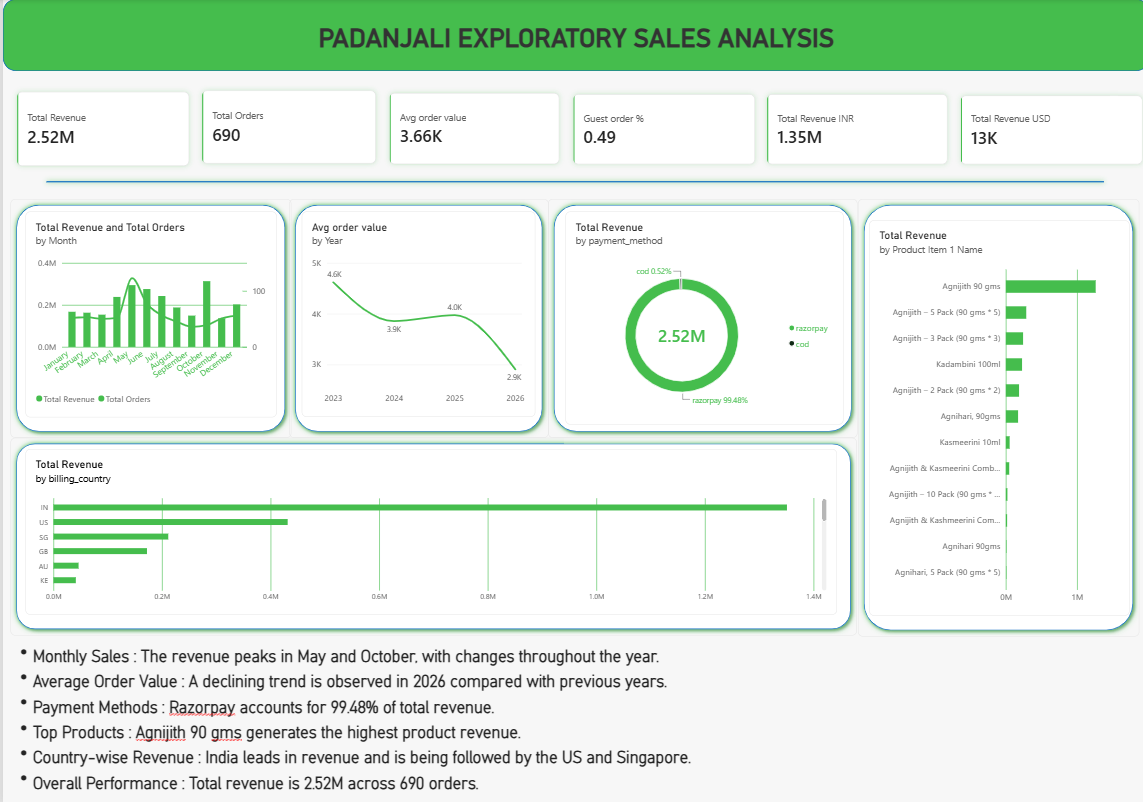

What the dashboard file says about the page in this screenshot:
{"tool":"powerbi","page":{"name":"Exploratory Sales Analysis","canvas":[1920,1350],"ordinal":0},"visuals":[{"type":"shape","box":[12.6,734.9,1417.4,330.8],"z":0},{"type":"shape","box":[479.1,335,434.1,399.8],"z":1000},{"type":"shape","box":[12.6,335,470.1,399.8],"z":2000},{"type":"shape","box":[913.2,335,518.7,399.8],"z":3000},{"type":"cardVisual","fields":{"Data":["padanjaly-order export csv.Total sales"]},"box":[12.2,144.8,310.5,146.5],"z":4000},{"type":"shape","box":[0,0,1920,120.7],"z":5000},{"type":"textbox","box":[0,40.1,1920.4,80.2],"z":6000},{"type":"cardVisual","fields":{"Data":["Rates.Total Orders"]},"box":[322.7,143,314,144.8],"z":7000},{"type":"cardVisual","fields":{"Data":["Rates.Avg order value"]},"box":[636.6,146.5,307,141.3],"z":8000},{"type":"cardVisual","fields":{"Data":["Rates.Guest order %"]},"box":[943.6,148.3,326.2,139.5],"z":9000},{"type":"cardVisual","fields":{"Data":["Rates.Total Revenue Indian"]},"box":[1269.8,148.3,324.4,139.5],"z":10000},{"type":"cardVisual","fields":{"Data":["Rates.Total Revenue USD"]},"box":[1594.2,150,326.2,137.8],"z":11000},{"type":"lineClusteredColumnComboChart","fields":{"Category":["padanjaly-order export csv.order_date.Variation.Date Hierarchy.Month"],"Y":["padanjaly-order export csv.Total Revenue"],"Y2":["Rates.Total Orders"]},"box":[38.5,356.8,420.4,345],"z":12000},{"type":"donutChart","fields":{"Category":["padanjaly-order export csv.payment_method"],"Y":["padanjaly-order export csv.Total Revenue"]},"box":[943,356.8,465.6,356.8],"z":13000},{"type":"lineChart","fields":{"Category":["padanjaly-order export csv.order_date.Variation.Date Hierarchy.Year","padanjaly-order export csv.order_date.Variation.Date Hierarchy.Month"],"Y":["Rates.Avg order value"]},"box":[500.7,356.6,390.8,344],"z":14000},{"type":"shape","box":[1432.1,335,470.9,732.6],"z":15000},{"type":"shape","box":[65.3,291.4,1787.2,30.1],"z":16000},{"type":"clusteredBarChart","fields":{"Category":["padanjaly-order export csv.Product Item 1 Name"],"Y":["padanjaly-order export csv.Total Revenue"]},"box":[1450.5,370.2,436,662.8],"z":17000},{"type":"barChart","fields":{"Category":["padanjaly-order export csv.billing_country"],"Y":["padanjaly-order export csv.Total Revenue"]},"box":[36.9,753.4,1359.2,277.9],"z":18000},{"type":"textbox","box":[2.2,1076.9,1917.2,323.5],"z":18001}]}

Visuals, with their boxes in screenshot pixels (x1, y1, x2, y2), scaled from the page's 1920x1350 canvas onto the 1143x802 screenshot:
shape: {"left": 8, "top": 437, "right": 851, "bottom": 633}
shape: {"left": 285, "top": 199, "right": 544, "bottom": 437}
shape: {"left": 8, "top": 199, "right": 287, "bottom": 437}
shape: {"left": 544, "top": 199, "right": 852, "bottom": 437}
cardVisual - padanjaly-order export csv.Total sales: {"left": 7, "top": 86, "right": 192, "bottom": 173}
shape: {"left": 0, "top": 0, "right": 1142, "bottom": 72}
textbox: {"left": 0, "top": 24, "right": 1142, "bottom": 71}
cardVisual - Rates.Total Orders: {"left": 192, "top": 85, "right": 379, "bottom": 171}
cardVisual - Rates.Avg order value: {"left": 379, "top": 87, "right": 562, "bottom": 171}
cardVisual - Rates.Guest order %: {"left": 562, "top": 88, "right": 756, "bottom": 171}
cardVisual - Rates.Total Revenue Indian: {"left": 756, "top": 88, "right": 949, "bottom": 171}
cardVisual - Rates.Total Revenue USD: {"left": 949, "top": 89, "right": 1142, "bottom": 171}
lineClusteredColumnComboChart - padanjaly-order export csv.order_date.Variation.Date Hierarchy.Month x padanjaly-order export csv.Total Revenue: {"left": 23, "top": 212, "right": 273, "bottom": 417}
donutChart - padanjaly-order export csv.payment_method x padanjaly-order export csv.Total Revenue: {"left": 561, "top": 212, "right": 839, "bottom": 424}
lineChart - padanjaly-order export csv.order_date.Variation.Date Hierarchy.Year x padanjaly-order export csv.order_date.Variation.Date Hierarchy.Month: {"left": 298, "top": 212, "right": 531, "bottom": 416}
shape: {"left": 853, "top": 199, "right": 1133, "bottom": 634}
shape: {"left": 39, "top": 173, "right": 1103, "bottom": 191}
clusteredBarChart - padanjaly-order export csv.Product Item 1 Name x padanjaly-order export csv.Total Revenue: {"left": 864, "top": 220, "right": 1123, "bottom": 614}
barChart - padanjaly-order export csv.billing_country x padanjaly-order export csv.Total Revenue: {"left": 22, "top": 448, "right": 831, "bottom": 613}
textbox: {"left": 1, "top": 640, "right": 1142, "bottom": 801}
